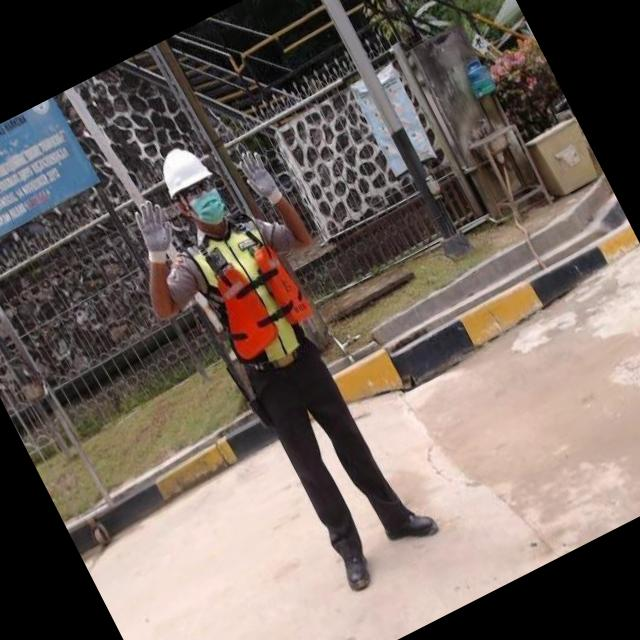hard_hat: (154, 140, 216, 200)
safety_vest: (178, 206, 332, 384)
vehicle: (85, 94, 489, 628)
work_boots: (377, 494, 446, 557), (331, 534, 384, 598)
